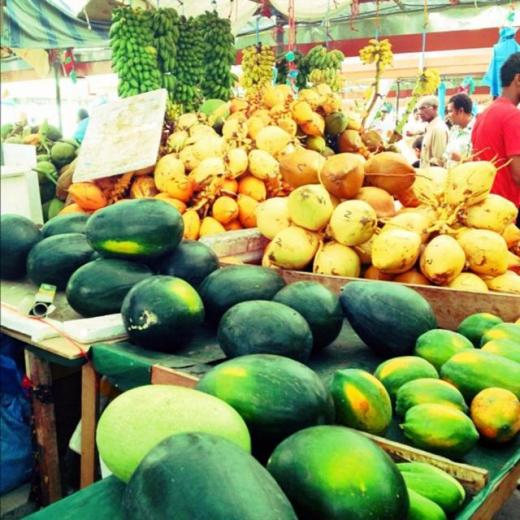Cherry: (0, 198, 438, 520), (0, 198, 437, 520), (265, 425, 410, 520)
